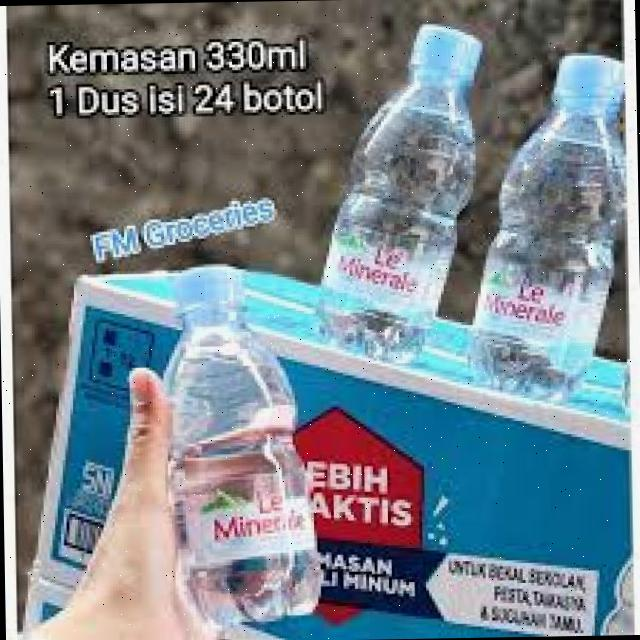bottle: (123, 285, 387, 640), (467, 34, 633, 410), (326, 11, 482, 367)
cap: (550, 54, 624, 114), (414, 23, 474, 86), (171, 268, 250, 313), (230, 255, 238, 260)
label: (162, 480, 326, 562), (318, 216, 452, 316), (476, 260, 616, 352)
